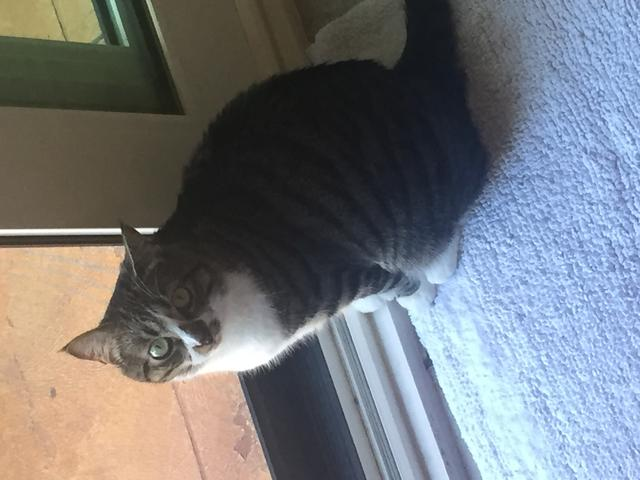playdoh: (52, 2, 492, 388)
